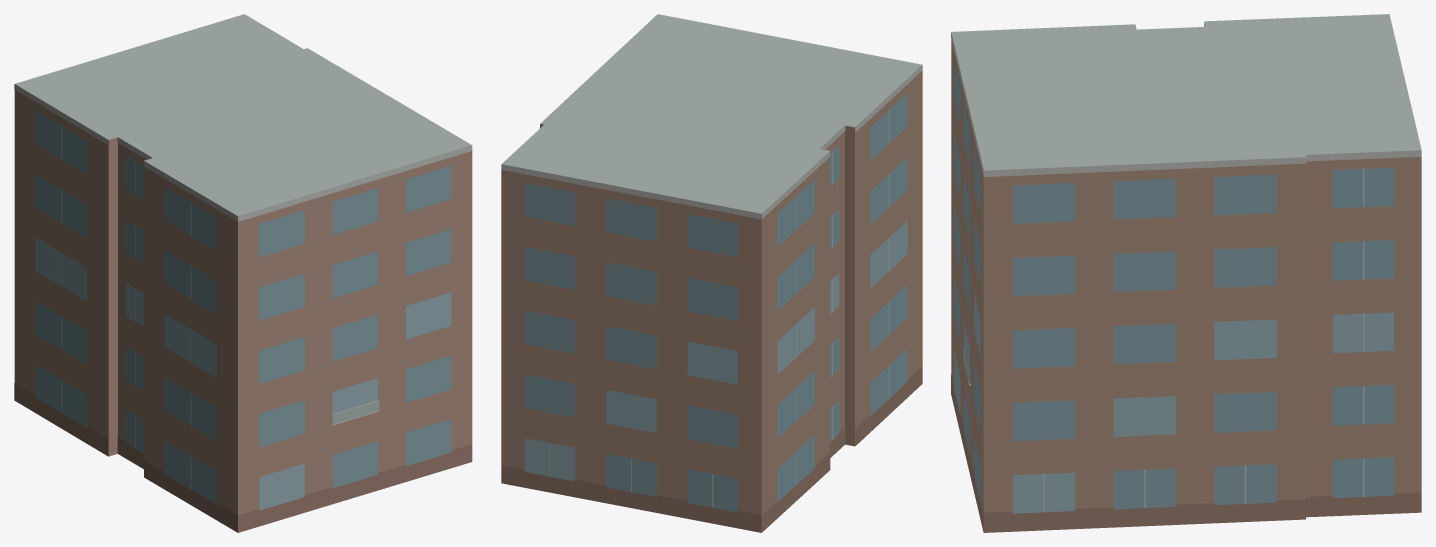
File: survey-upis-32668433.glb
3 views of the same model, side by side, from view 1: azimuth 30°, elevation 25°; view 2: azimuth 150°, elevation 25°; view 3: azimuth 270°, elevation 25° (orthographic). The views are drawn at different scales.
Visible parts, largest first — view 1: survey-upis-32668433.tmp; view 2: survey-upis-32668433.tmp; view 3: survey-upis-32668433.tmp.
Part boxes in pixels (x1,y1,x2,y2): survey-upis-32668433.tmp: (14, 14, 472, 532); survey-upis-32668433.tmp: (501, 14, 922, 532); survey-upis-32668433.tmp: (951, 14, 1421, 532).
Size of the model in its own units: 12.71 by 13.7 by 16.14.
